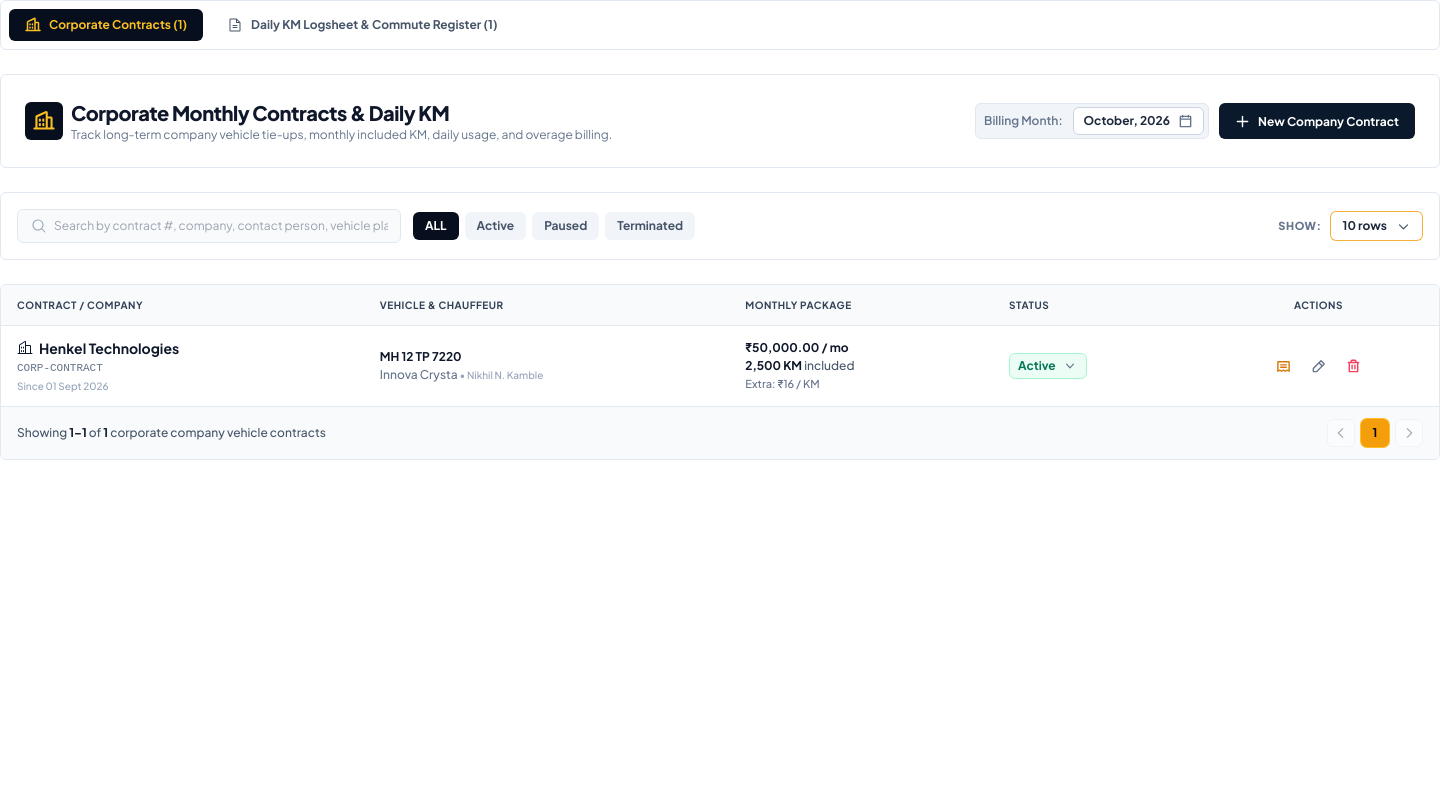
Test case: CorporateContractTable switches to Daily KM Logsheets tab and displays employee counts
Expected: the text "Henkel Technologies" is shown, [39,338,179,358]
Click on "Daily KM Logsheet & Commute Register" tab
What coordinates should you click on to do the following:
click the button "Daily KM Logsheet & Commute Register (1)"
I would click on:
 (362, 25)
Its box is [211,9,513,41].
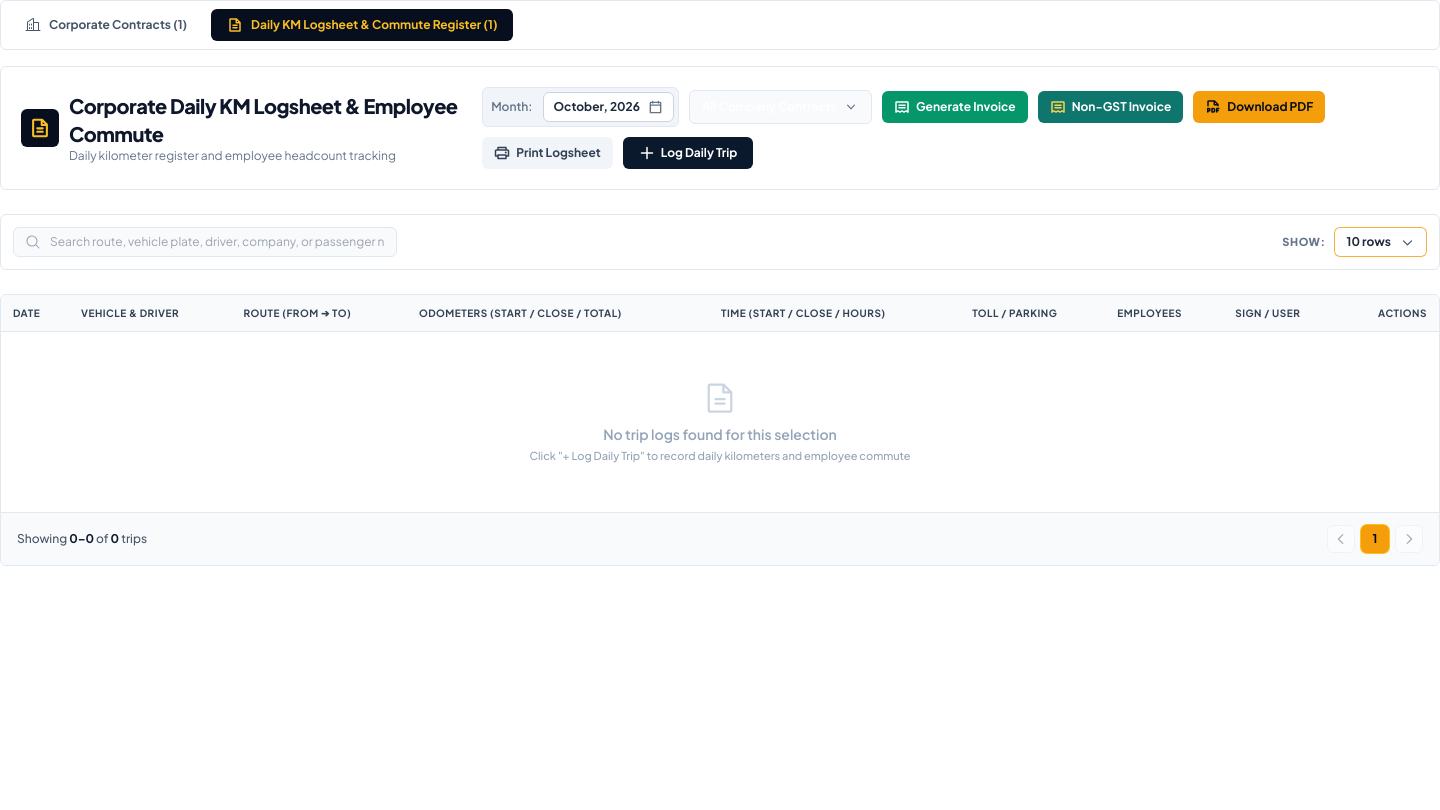
Result: the heading "Corporate Daily KM Logsheet & Employee Commute" is shown at [69,92,466,148]
Result: the text "Print Logsheet" is shown at [516,145,601,161]
Result: the text "Download PDF" is shown at [1227,99,1313,115]
